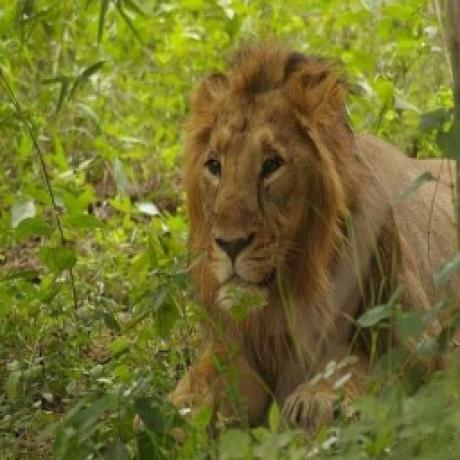Lion: (181, 36, 460, 422)
